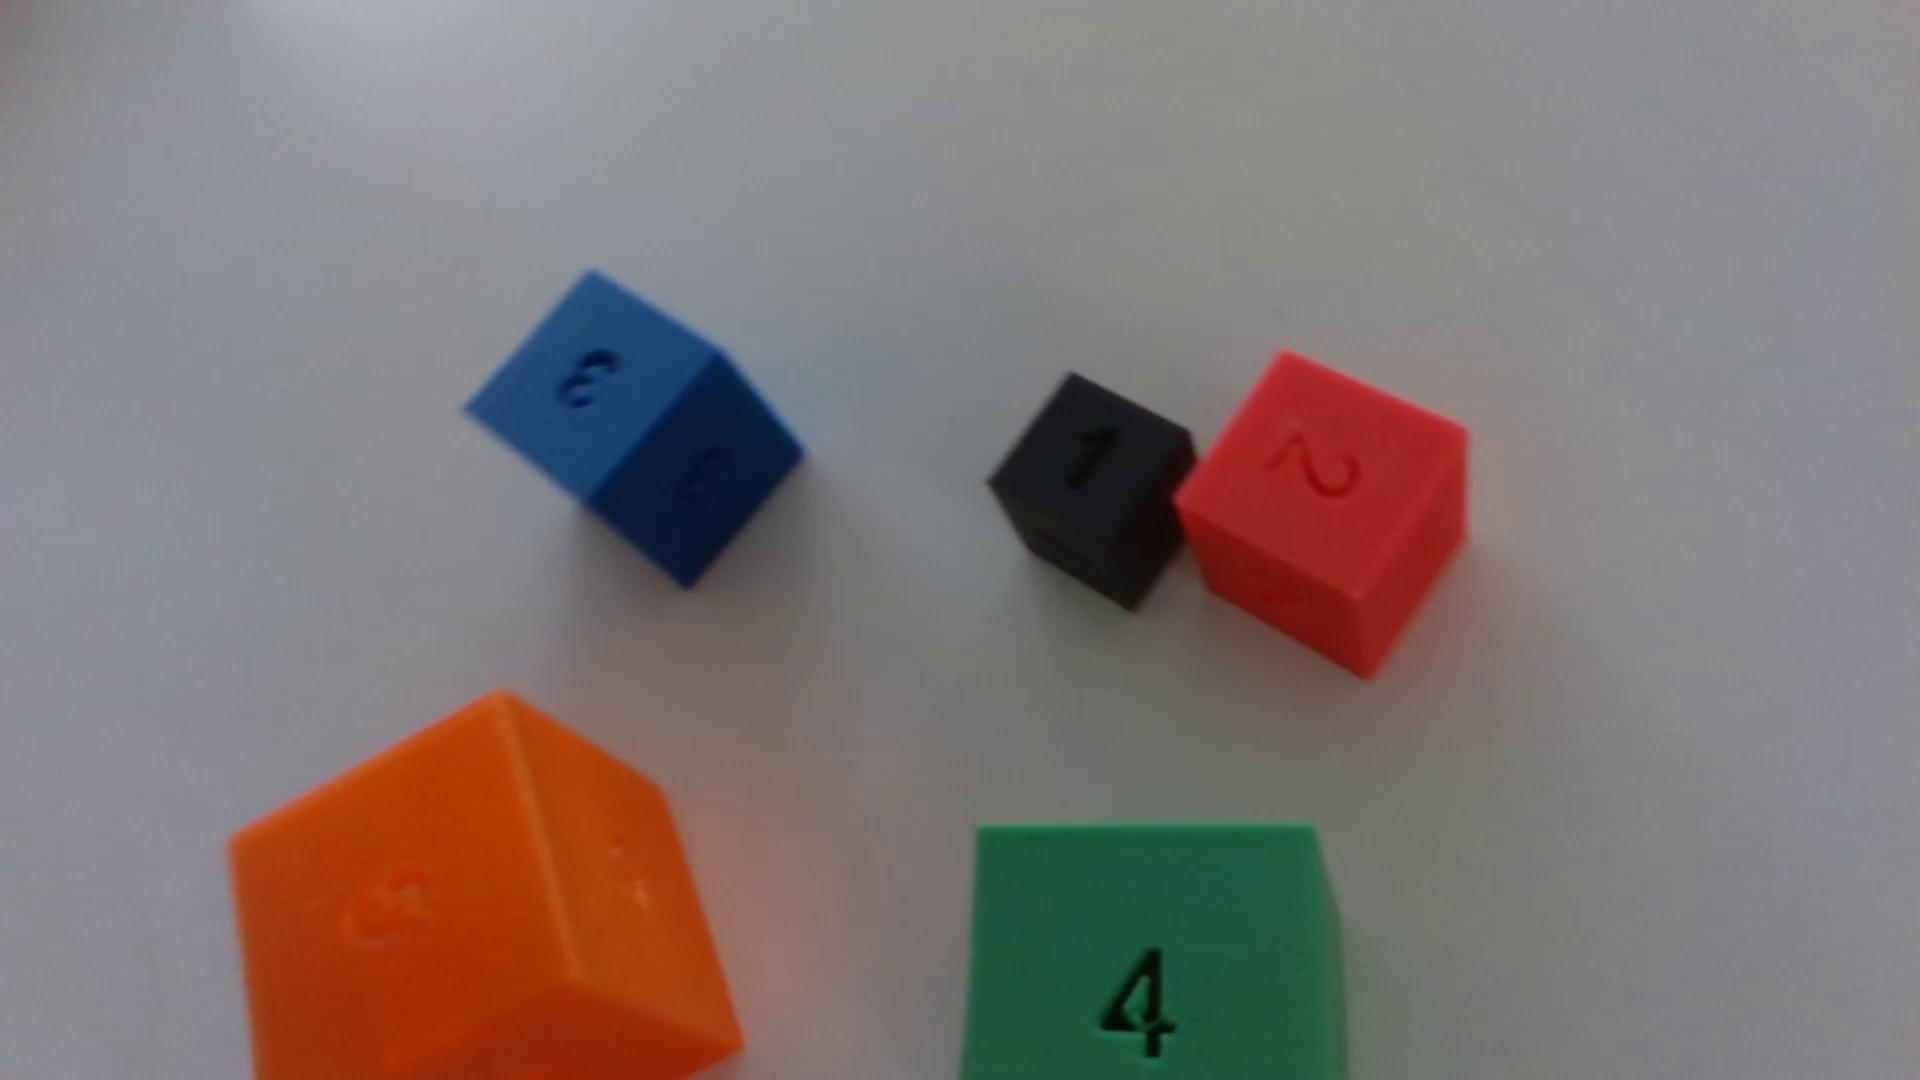black: (988, 375, 1196, 611)
blue: (465, 274, 802, 589)
green: (960, 824, 1346, 1080)
orange: (229, 694, 741, 1080)
red: (1176, 353, 1468, 679)
